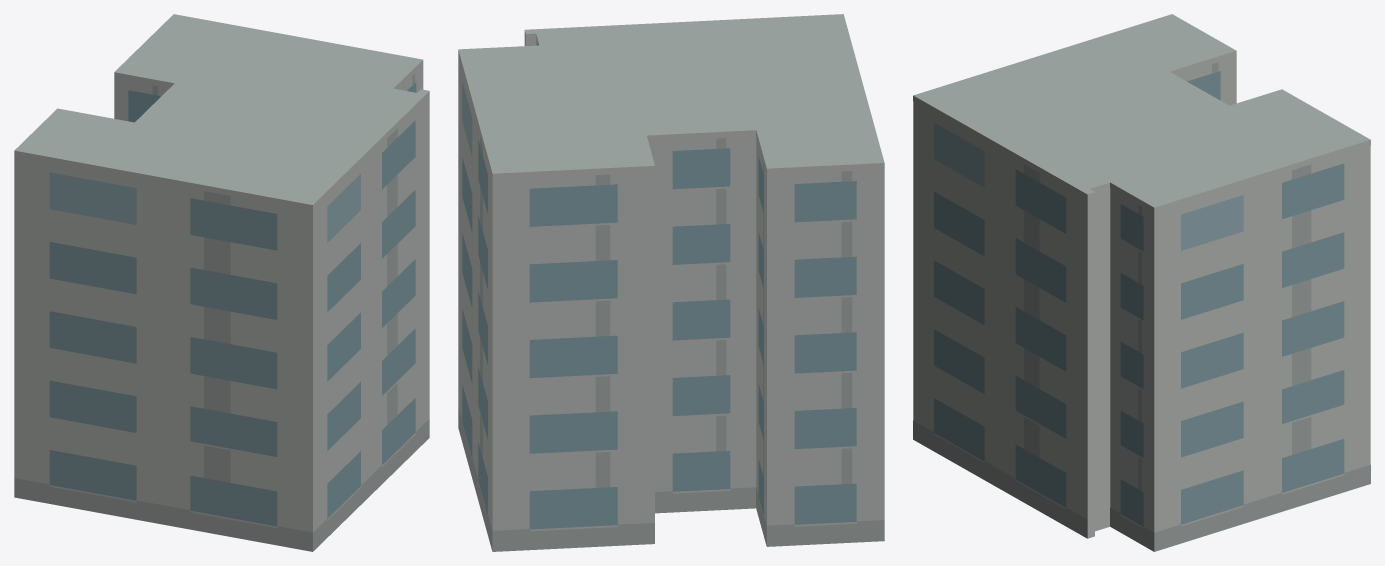
Rendered from residential-9c8f3db7-6d66-4066-8310-d840f0bed4a8.glb.
3 renders of one model, left to right at view 1: azimuth 30°, elevation 25°; view 2: azimuth 150°, elevation 25°; view 3: azimuth 270°, elevation 25°, orthographic. The views are drawn at different scales.
Parts seen in each view (by area): view 1: residential-9c8f3db7-6d66-4066-8310-d840f0bed4a8.tmp; view 2: residential-9c8f3db7-6d66-4066-8310-d840f0bed4a8.tmp; view 3: residential-9c8f3db7-6d66-4066-8310-d840f0bed4a8.tmp.
Part boxes in pixels (bbox=[...]): residential-9c8f3db7-6d66-4066-8310-d840f0bed4a8.tmp: bbox=[14, 14, 429, 551]; residential-9c8f3db7-6d66-4066-8310-d840f0bed4a8.tmp: bbox=[458, 14, 884, 551]; residential-9c8f3db7-6d66-4066-8310-d840f0bed4a8.tmp: bbox=[913, 14, 1370, 551].
Size of the model in its own units: 17.15 by 14.2 by 17.12.
